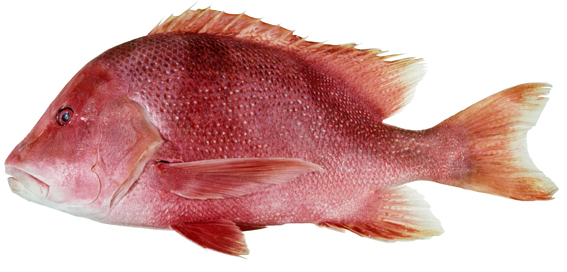fish: (4, 3, 558, 258)
